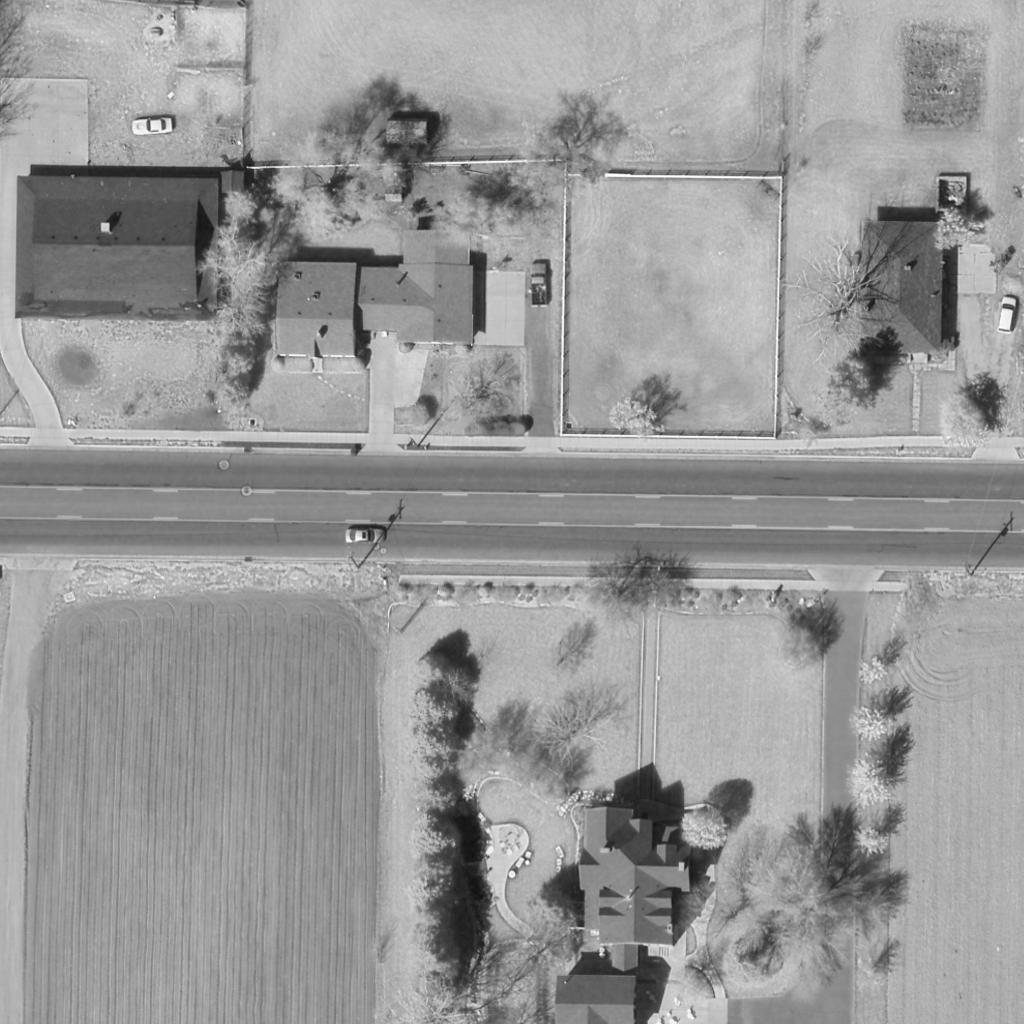vehicle: (529, 263, 549, 307), (998, 296, 1018, 336), (130, 118, 174, 136), (345, 528, 385, 544)
